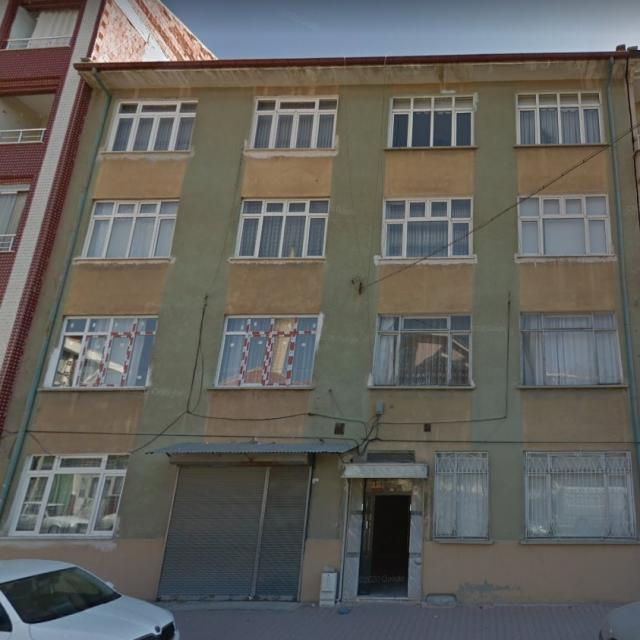Building: (0, 51, 640, 606)
